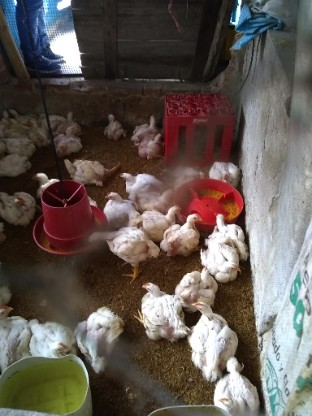Pollos: (187, 297, 237, 376), (75, 301, 127, 374), (86, 226, 156, 278), (209, 356, 265, 413), (139, 279, 184, 334), (0, 297, 29, 375), (29, 314, 74, 363), (162, 208, 200, 257), (208, 210, 246, 258), (197, 238, 237, 280), (61, 158, 120, 186), (176, 268, 216, 308), (120, 169, 161, 206), (0, 186, 37, 226), (102, 190, 137, 229), (137, 202, 177, 236), (161, 159, 203, 191), (0, 150, 33, 182), (101, 104, 128, 142), (132, 110, 162, 142), (208, 157, 240, 186), (31, 170, 61, 199), (142, 133, 174, 160), (0, 134, 33, 157), (56, 126, 83, 154), (39, 112, 61, 125), (64, 111, 75, 129), (25, 120, 41, 132), (6, 118, 20, 130), (1, 109, 12, 124), (7, 107, 23, 117)
